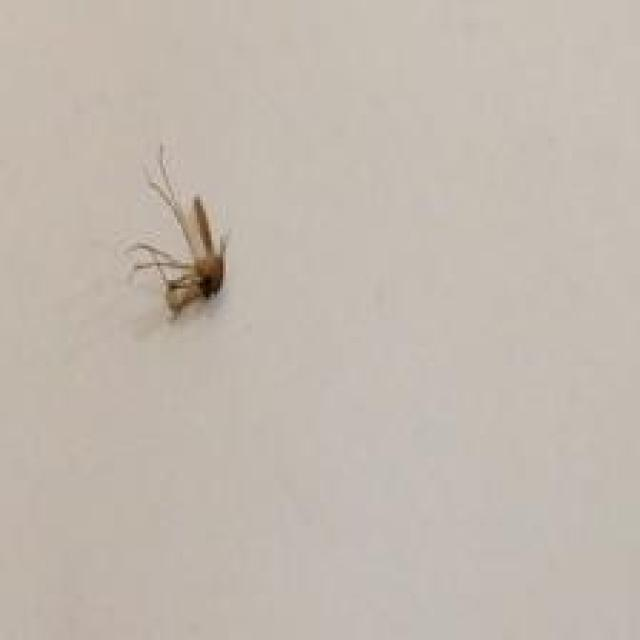Culex: (126, 142, 231, 322)
